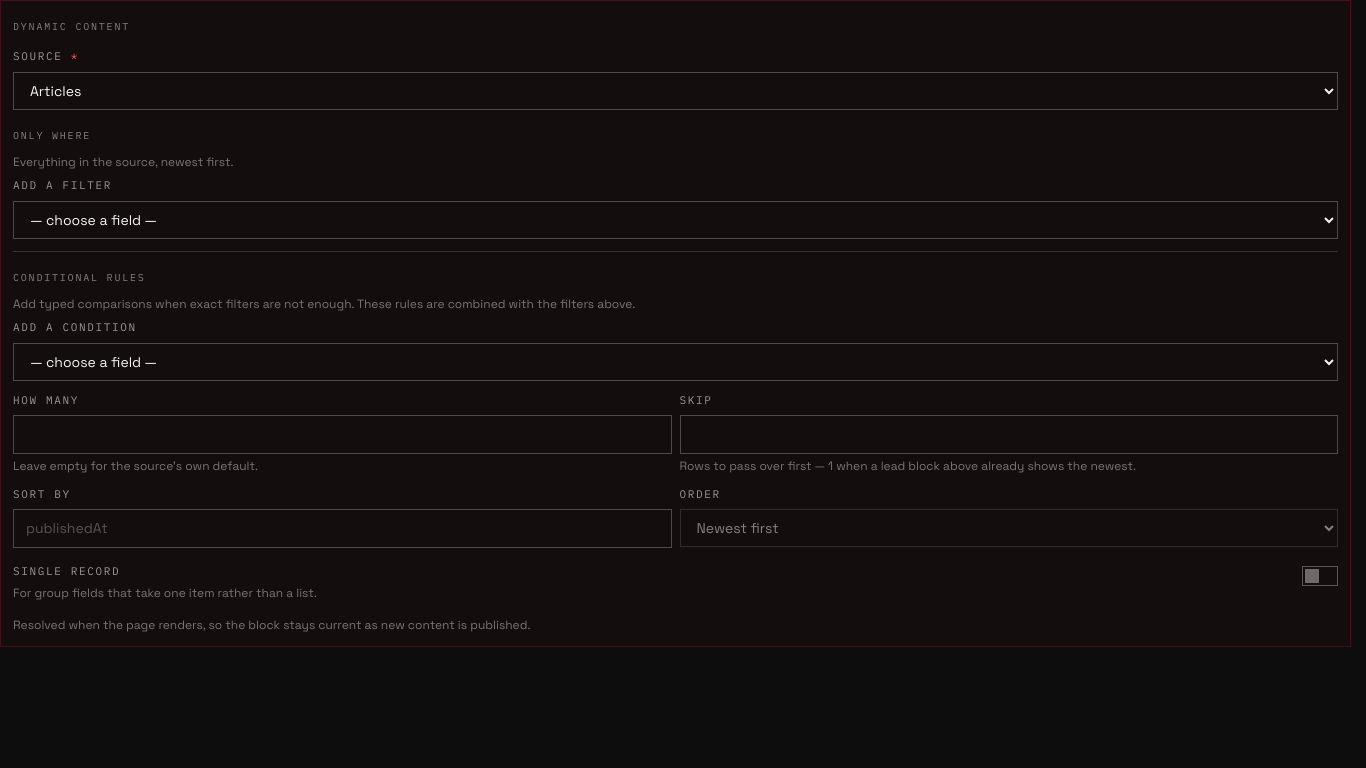
Scenario: binding filters › does not store a filter that is still empty
Step 1. Select "Category" in the dropdown labelled "Add a filter" → (676, 220), box [13,200,1338,238]
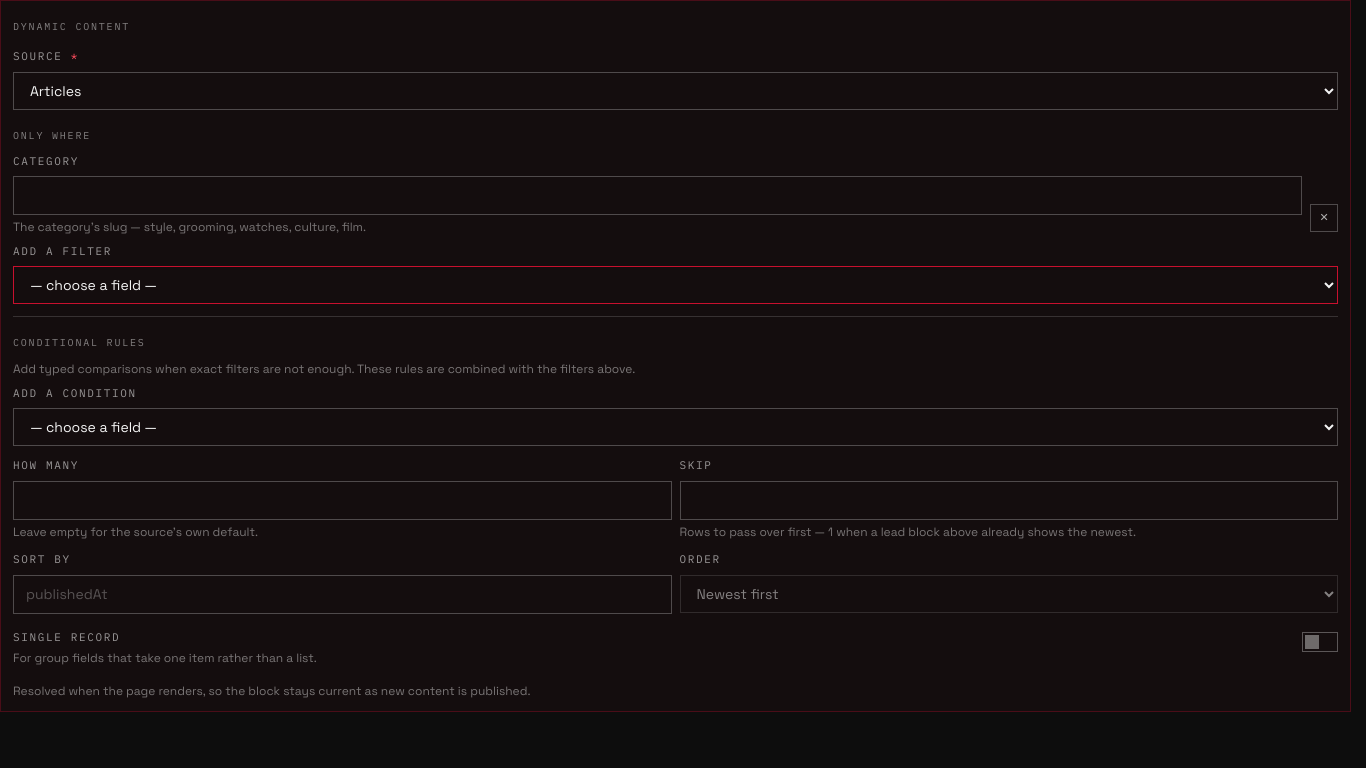
expect the field labelled "Category" is shown: met, box [13,176,1302,215]
